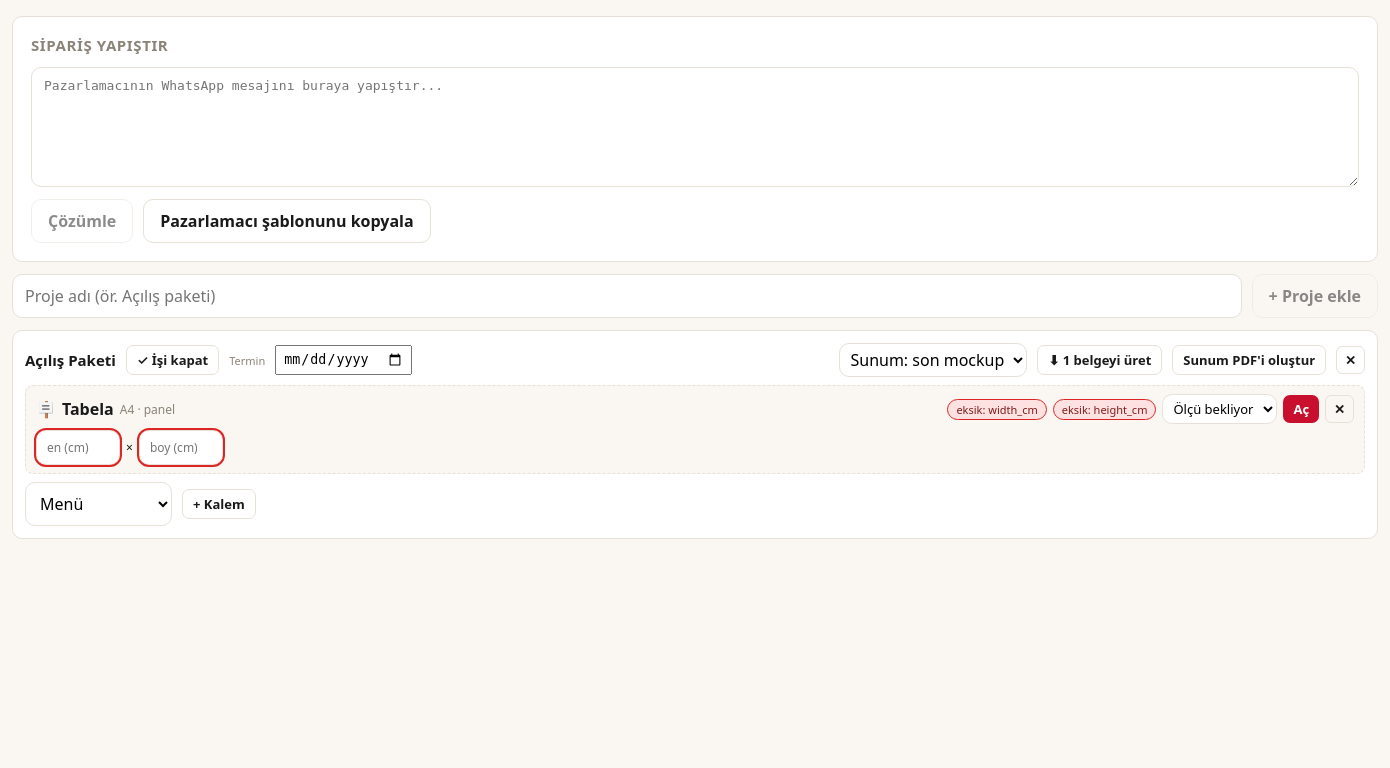
Test: toplu aktarım sonucu › ✕ ile KAPANIR — kapanış operatörün elinde
Click the button "⬇ 1 belgeyi üret": (1100, 360) [1038,345,1162,375]
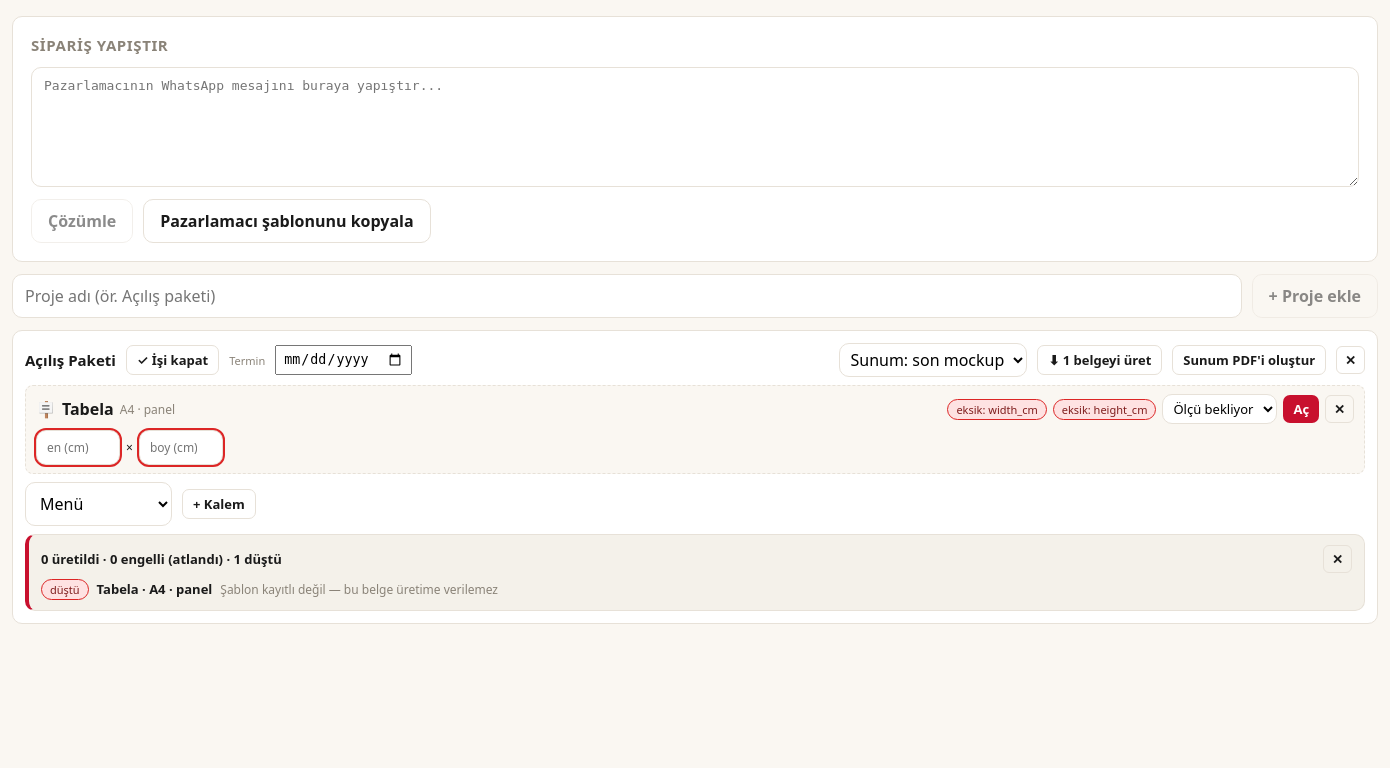
Expected: the element with class "tur-sonucu" is shown, [25,534,1365,611]
Click the 3rd button titled "Sonucu kapat": (1338, 559) [1323,545,1352,573]
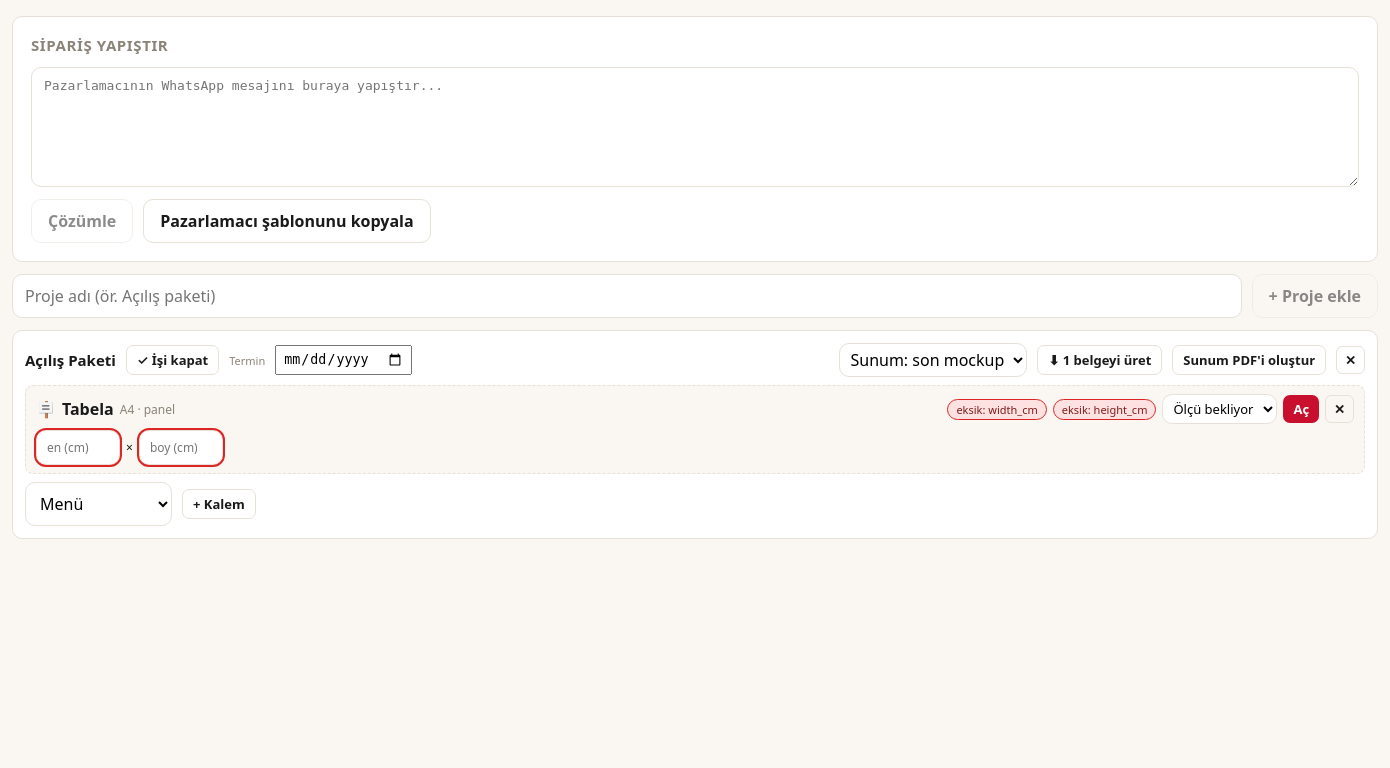
Expected: the element with class "tur-sonucu" is gone
